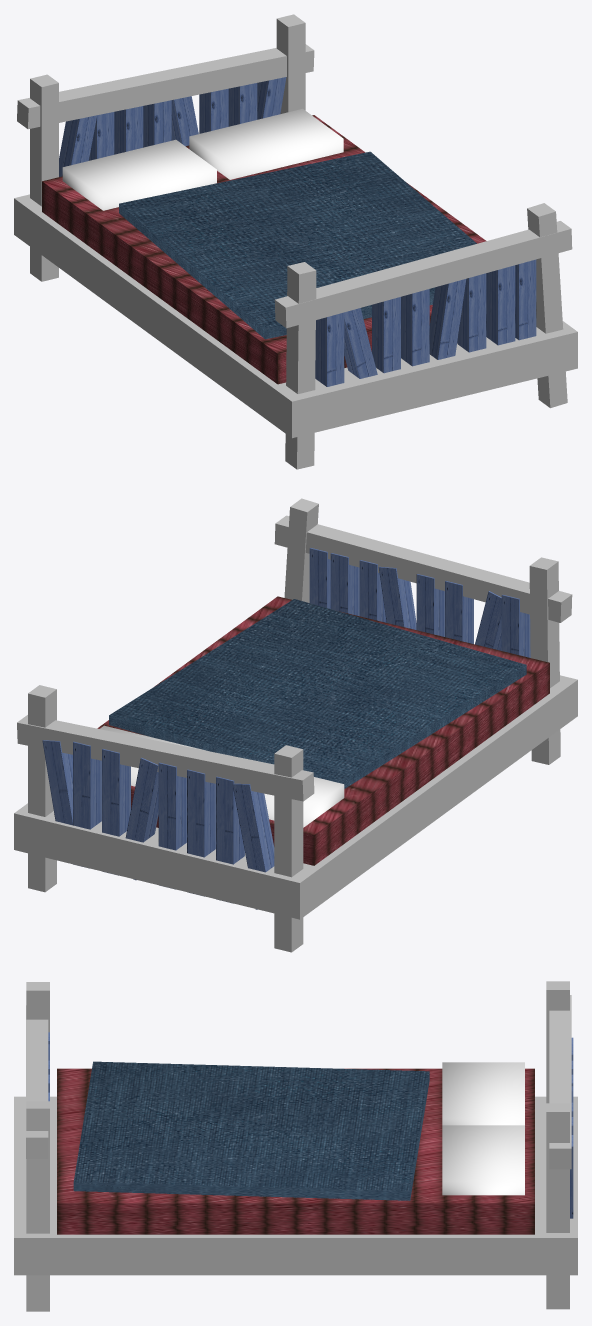
File: Bed1.fbx
3 renders of one model, top to bottom at view 1: azimuth 30°, elevation 25°; view 2: azimuth 150°, elevation 25°; view 3: azimuth 270°, elevation 25°, orthographic.
Parts seen in each view (by area): view 1: Cube.024, Cube, Cube.005, Cube.014, Cube.023, Cube.026, Cube.025, Cube.002, Cube.001, Cube.004, Cube.003, Cube.010 (+15 smaller); view 2: Cube.024, Cube, Cube.005, Cube.023, Cube.014, Cube.004, Cube.002, Cube.003, Cube.015, Cube.001, Cube.017, Cube.018 (+14 smaller); view 3: Cube.024, Cube, Cube.005, Cube.026, Cube.025, Cube.001, Cube.003, Cube.023, Cube.014, Cube.004, Cube.002.
Part boxes in pixels (x1,y1,x2,y2): Cube.024: [119, 151, 476, 339]; Cube: [14, 194, 577, 438]; Cube.005: [42, 115, 486, 384]; Cube.014: [274, 221, 572, 328]; Cube.023: [17, 44, 314, 129]; Cube.026: [189, 108, 343, 179]; Cube.025: [62, 139, 216, 210]; Cube.002: [285, 262, 316, 469]; Cube.001: [527, 203, 567, 408]; Cube.004: [30, 74, 58, 281]; Cube.003: [276, 14, 305, 113]; Cube.010: [429, 279, 466, 359]; Cube.024: [109, 599, 526, 788]; Cube: [14, 675, 577, 919]; Cube.005: [97, 596, 549, 865]; Cube.023: [17, 715, 314, 801]; Cube.014: [274, 515, 572, 622]; Cube.004: [274, 745, 303, 952]; Cube.002: [529, 557, 560, 764]; Cube.003: [28, 685, 56, 892]; Cube.015: [232, 783, 274, 909]; Cube.001: [284, 498, 318, 602]; Cube.017: [187, 769, 215, 896]; Cube.018: [158, 762, 186, 889]; Cube.024: [73, 1061, 429, 1200]; Cube: [14, 1096, 577, 1275]; Cube.005: [57, 1068, 534, 1234]; Cube.026: [442, 1125, 524, 1195]; Cube.025: [442, 1062, 524, 1125]; Cube.001: [26, 1101, 49, 1311]; Cube.003: [546, 1103, 569, 1309]; Cube.023: [549, 995, 571, 1169]; Cube.014: [26, 1005, 48, 1158]; Cube.004: [546, 981, 569, 1103]; Cube.002: [26, 982, 49, 1032].
Size of the model in its own units: 327 by 213 by 550.
